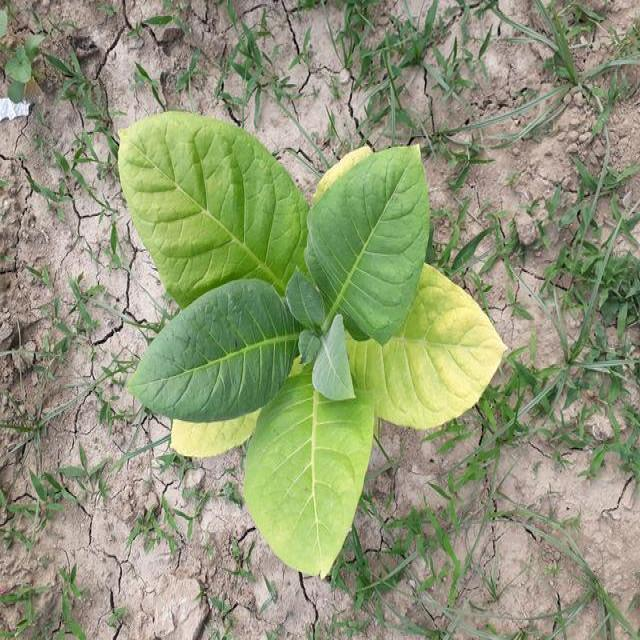crop: (120, 102, 514, 586)
